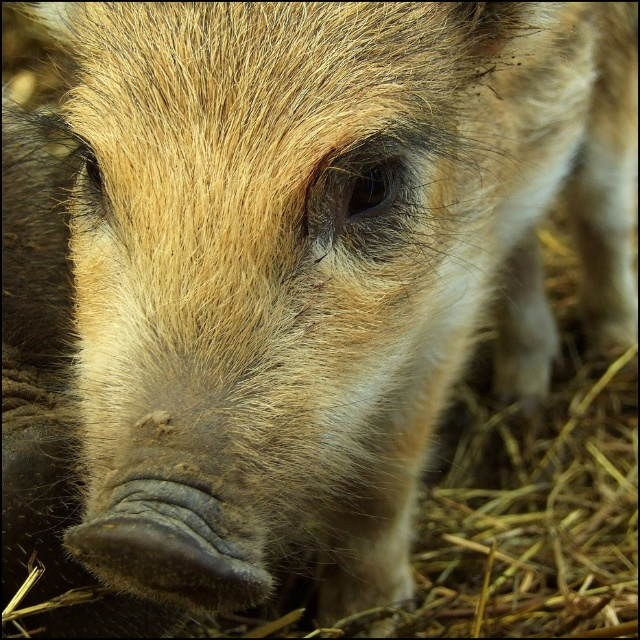Pig: (1, 2, 638, 638)
